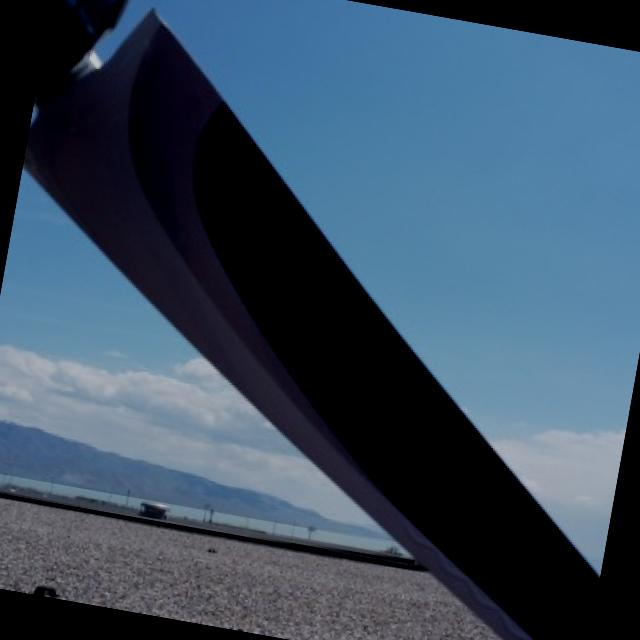healthy: (0, 170, 369, 521)
